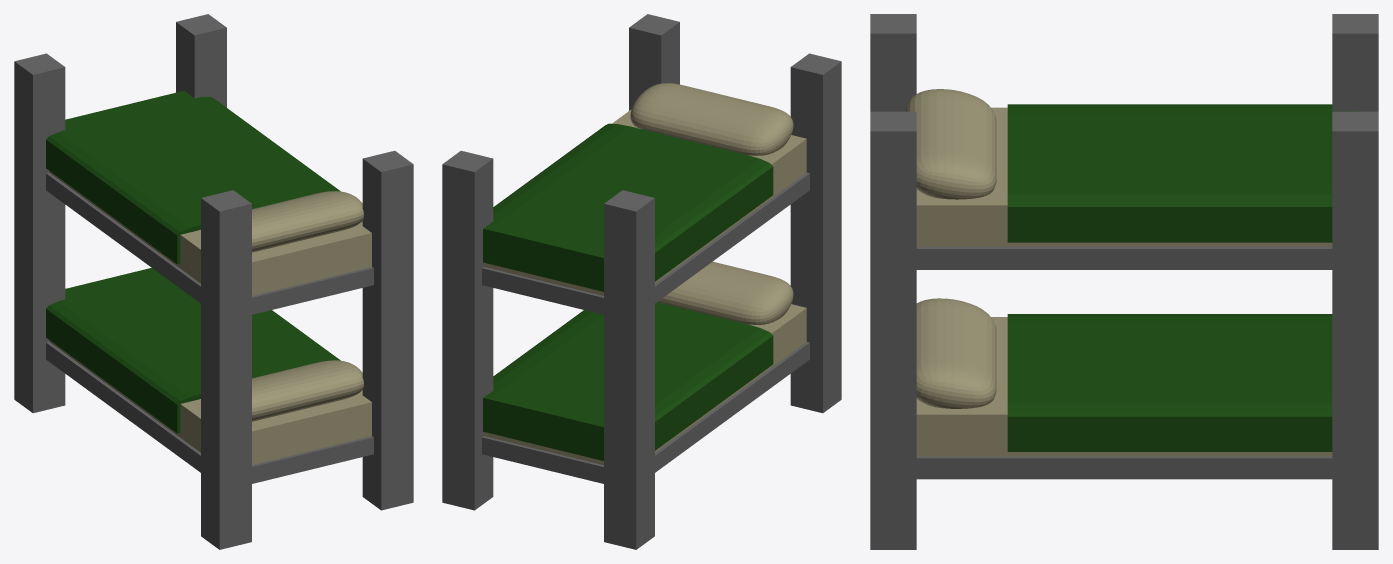
File: bed.fbx
3 views of the same model, side by side, from view 1: azimuth 30°, elevation 25°; view 2: azimuth 150°, elevation 25°; view 3: azimuth 270°, elevation 25° (orthographic). The views are drawn at different scales.
Parts seen in each view (by area): view 1: Cube.008, Cube.009, Cube, Cube.001, Cube.003, Cube.004, Cube.005, Cube.011, Cube.010, Cube.006, Cube.007, Cube.002; view 2: Cube.008, Cube.009, Cube.003, Cube.002, Cube, Cube.007, Cube.011, Cube.010, Cube.006, Cube.001, Cube.005, Cube.004; view 3: Cube.008, Cube.009, Cube.001, Cube.002, Cube.010, Cube.011, Cube.007, Cube.006, Cube.004, Cube.005, Cube.003, Cube.
Part boxes in pixels (x1,y1,x2,y2): Cube.008: (46,91,340,264); Cube.009: (46,268,340,433); Cube: (201,190,251,549); Cube.001: (362,150,413,510); Cube.003: (14,53,65,413); Cube.004: (49,340,371,465); Cube.005: (49,171,371,295); Cube.011: (46,172,373,314); Cube.010: (46,342,373,483); Cube.006: (252,360,363,421); Cube.007: (252,191,363,252); Cube.002: (176,14,226,107); Cube.008: (483,123,773,291); Cube.009: (483,302,773,460); Cube.003: (604,190,654,549); Cube.002: (442,150,493,510); Cube: (790,53,841,413); Cube.007: (630,83,793,155); Cube.011: (482,172,809,314); Cube.010: (482,342,809,483); Cube.006: (657,261,793,324); Cube.001: (629,14,679,110); Cube.005: (484,109,806,295); Cube.004: (484,304,806,465); Cube.008: (1007,104,1357,242); Cube.009: (1007,314,1332,451); Cube.001: (870,111,916,549); Cube.002: (1332,111,1378,549); Cube.010: (916,456,1332,479); Cube.011: (916,247,1332,269); Cube.007: (905,89,996,199); Cube.006: (916,298,996,408); Cube.004: (916,317,1332,456); Cube.005: (916,107,1332,246); Cube.003: (1332,14,1378,111); Cube: (870,14,916,111).
Bounding box in the file's own units: 120 × 200 × 220.
